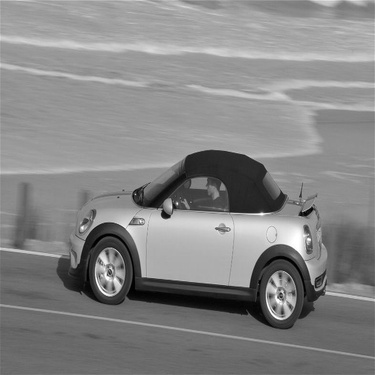car: (51, 137, 334, 339)
